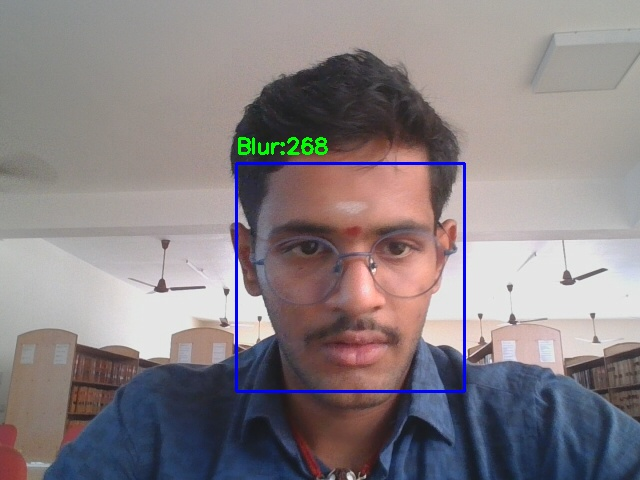real: (236, 163, 464, 391)
